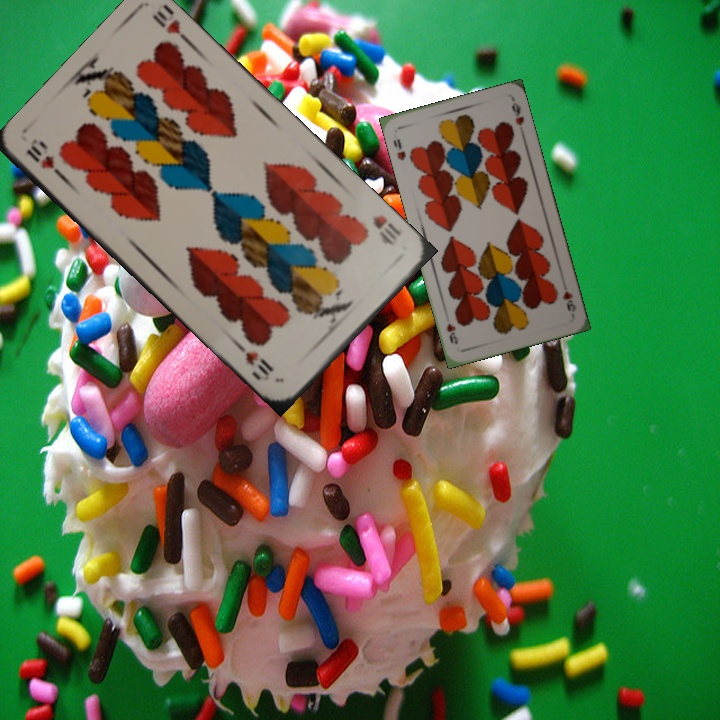H10: (22, 135, 69, 184), (368, 211, 405, 248)
H9: (558, 287, 579, 314), (389, 135, 408, 163)
